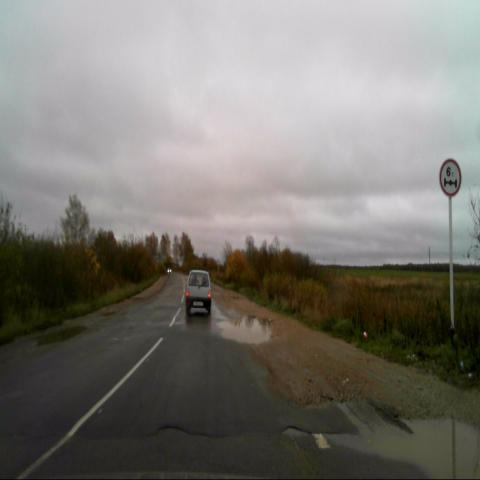3_12: (439, 158, 462, 198)
